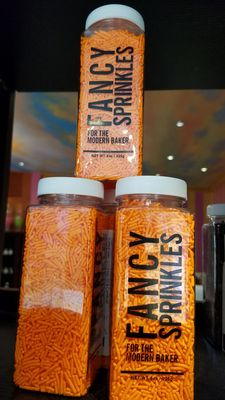sushi: (4, 1, 223, 399)
